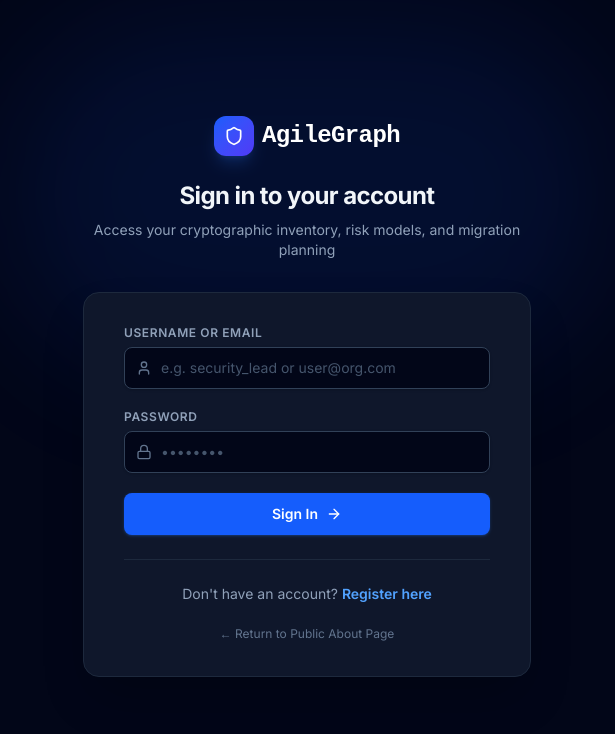
Test: Authentication & Authorization UI Tests › displays API error message on login failure
In the field with placeholder "e.g. security_lead or user@org.com": (307,368) [124, 346, 490, 388], type "unknown_user"
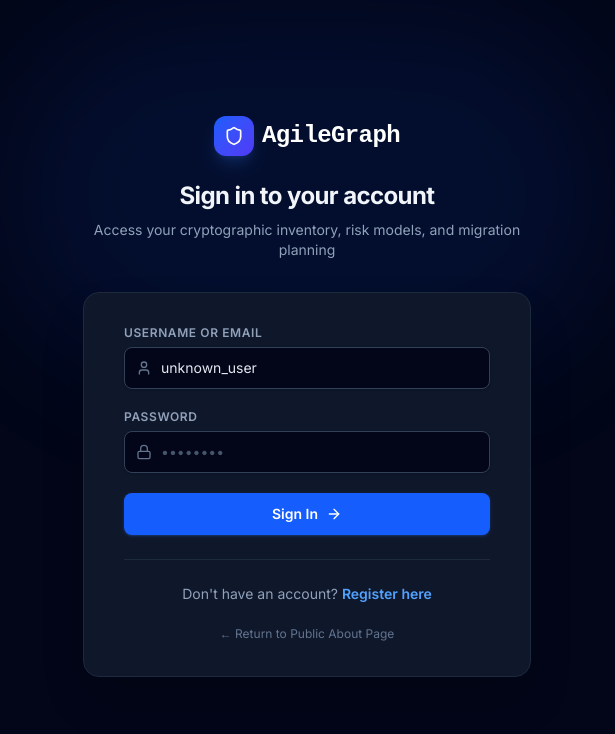
In the password field with placeholder "••••••••": (307,452) [124, 430, 490, 472], type "wrongpassword"
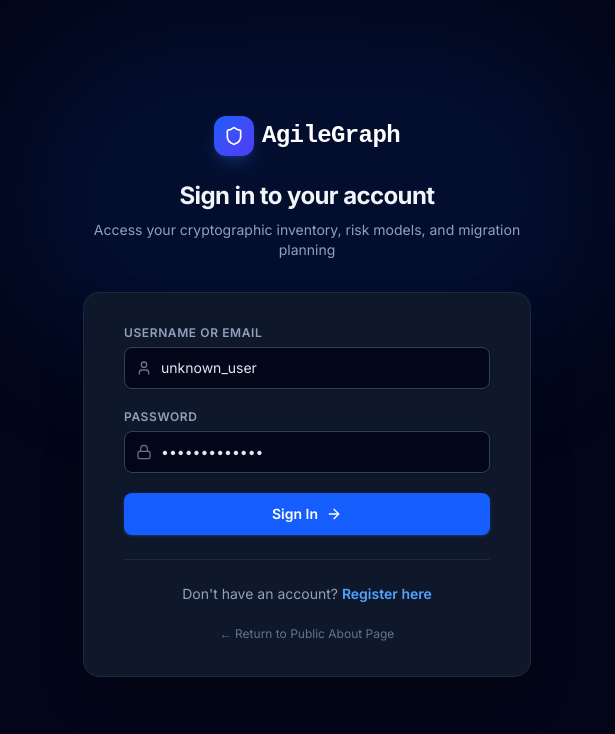
Click the button "Sign In": (307,514) [124, 492, 490, 534]
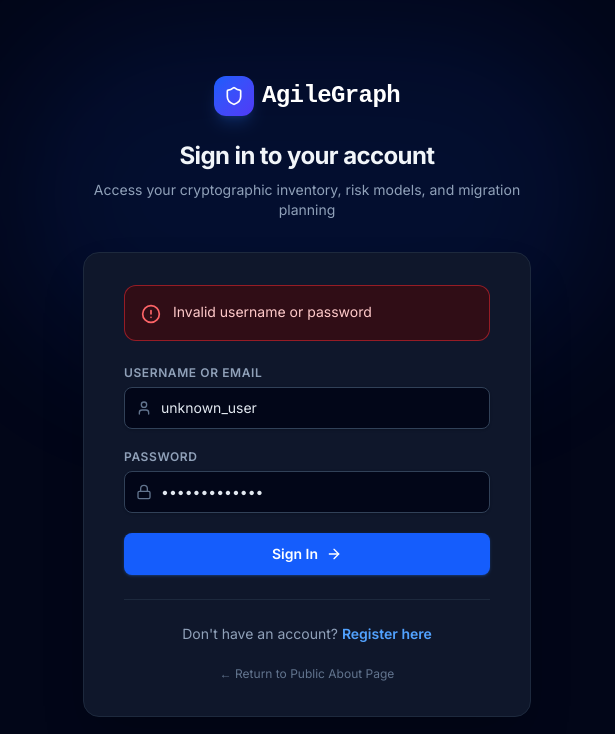
Expected: the text "Invalid username or password" is shown, [173, 302, 372, 322]
